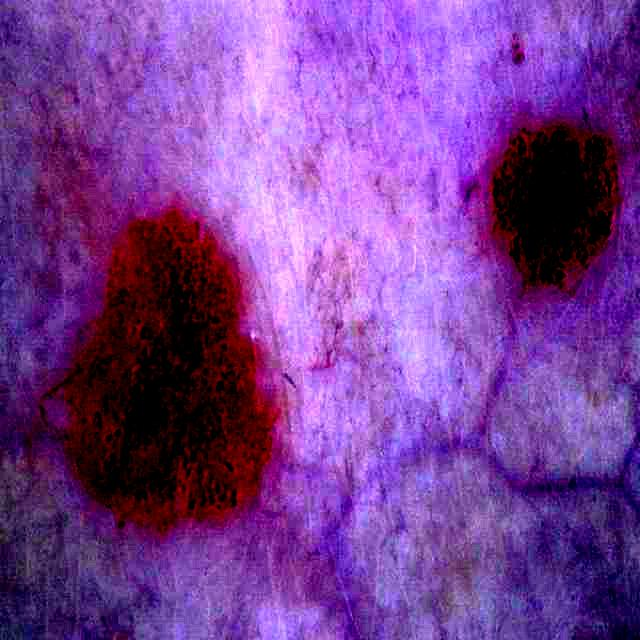VASC: (41, 209, 270, 524), (496, 129, 615, 284)
